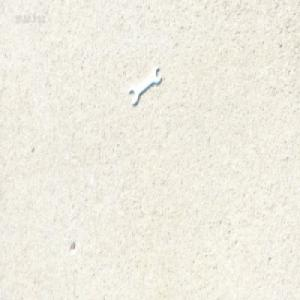Wrench: (129, 67, 162, 106)
